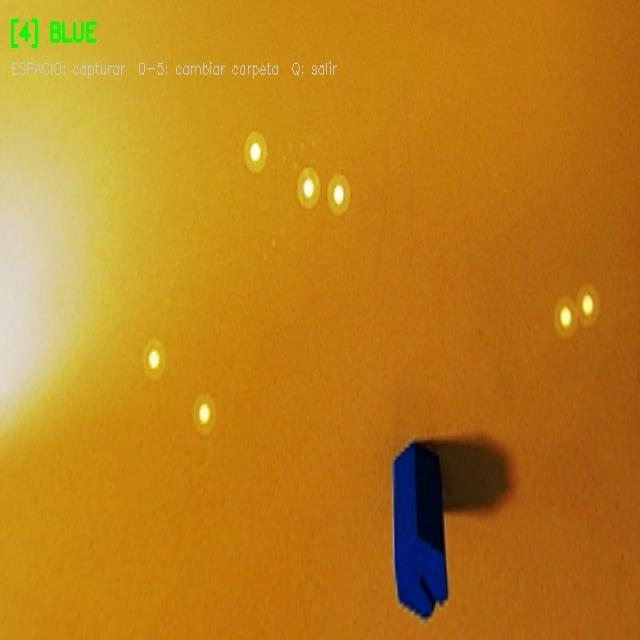blue: (392, 439, 448, 621)
